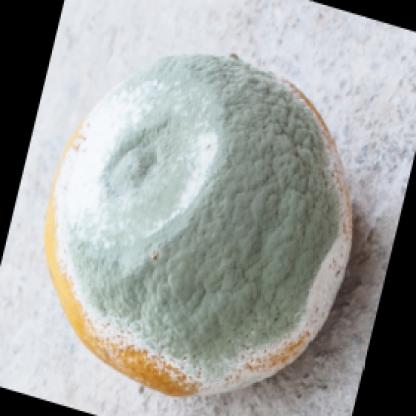rotten: (47, 51, 354, 399)
